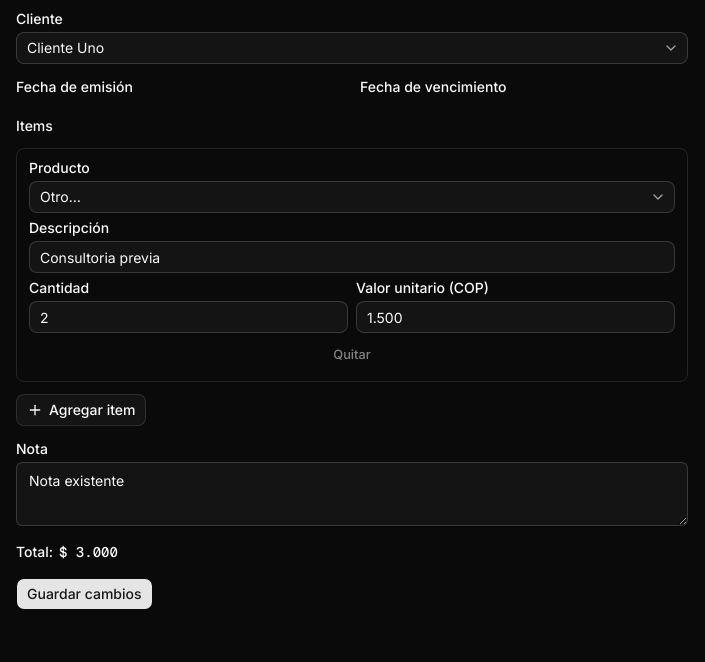
InvoiceFormContent › edit mode › shows the edit-specific server error message and does not navigate when the PATCH fails
This screenshot has width=705, height=662.
Click the button "Guardar cambios".
click(84, 594)  # box 16,578 -> 152,610
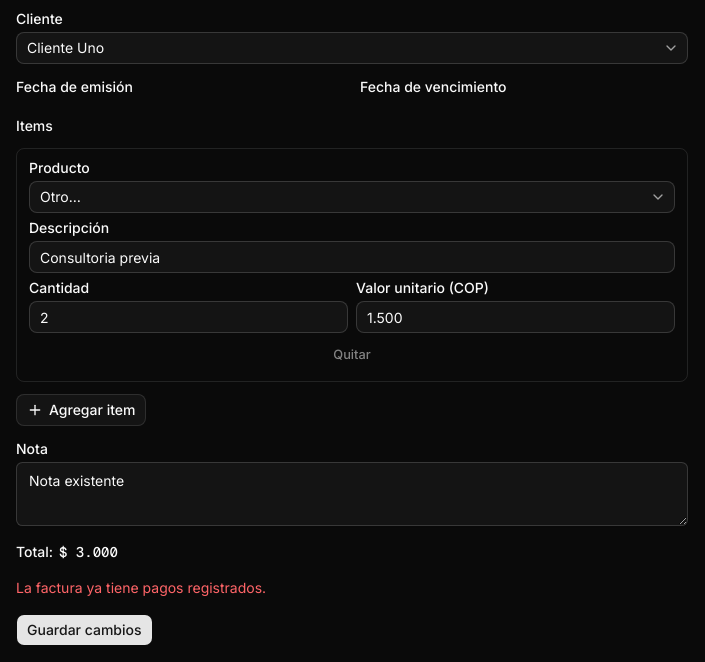
Now the message reads "La factura ya tiene pagos registrados.", box 16,579 -> 266,596
